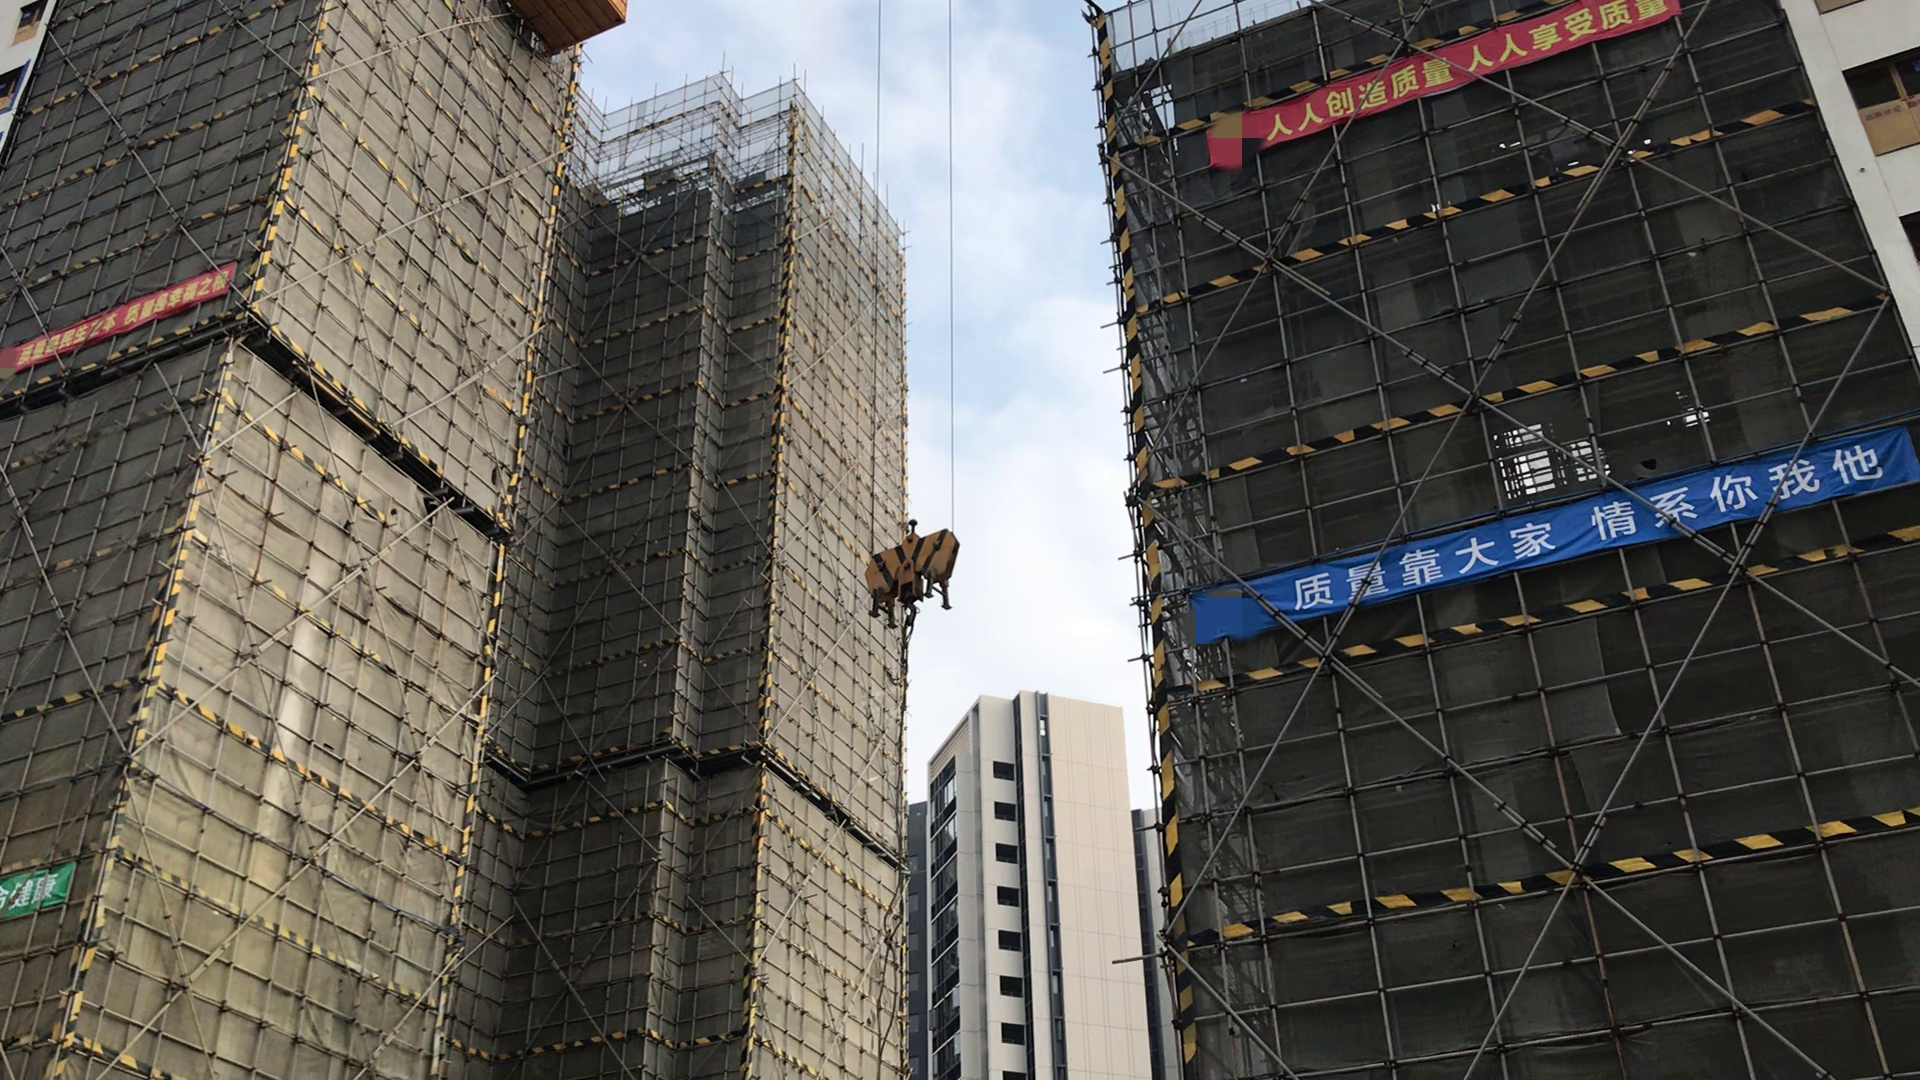hook: (857, 504, 978, 630)
slogan: (1204, 439, 1911, 645), (1255, 1, 1672, 152), (18, 257, 248, 371), (5, 865, 82, 922)
